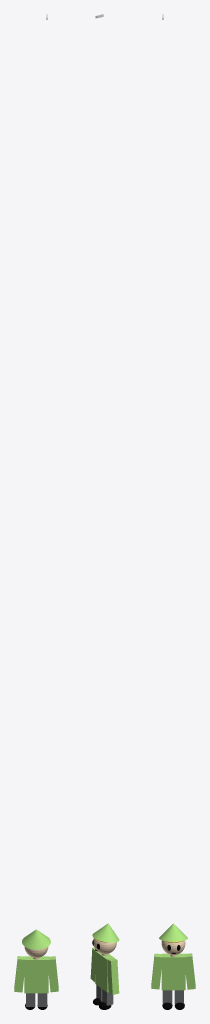
The model's file is JimmySweater1.fbx.
The picture shows the model from 3 angles, left to right: view 1: azimuth 90°, elevation 25°; view 2: azimuth 210°, elevation 25°; view 3: azimuth 270°, elevation 25°; orthographic projection.
Visible parts, largest first — view 1: Cube, Cone, Cube.003, Cube.004, Sphere, Cube.001; view 2: Cube, Cube.003, Cone, Sphere, Cube.004, Cube.006; view 3: Cube, Cube.003, Cube.004, Cone, Sphere.
Boxes of the visible parts, left/top/right/bottom form: Cube: left=24, top=956, right=48, bottom=993; Cone: left=22, top=929, right=50, bottom=949; Cube.003: left=14, top=956, right=25, bottom=992; Cube.004: left=48, top=956, right=58, bottom=992; Sphere: left=24, top=946, right=48, bottom=957; Cube.001: left=37, top=993, right=47, bottom=1006; Cube: left=95, top=951, right=114, bottom=992; Cube.003: left=107, top=957, right=119, bottom=994; Cone: left=92, top=923, right=119, bottom=942; Sphere: left=93, top=938, right=116, bottom=954; Cube.004: left=90, top=947, right=95, bottom=982; Cube.006: left=102, top=989, right=113, bottom=1005; Cube: left=161, top=953, right=185, bottom=990; Cube.003: left=184, top=953, right=195, bottom=989; Cube.004: left=151, top=953, right=161, bottom=989; Cone: left=159, top=923, right=187, bottom=941; Sphere: left=161, top=940, right=185, bottom=955.
Size of the model in its own units: 220 by 9106 by 370.
